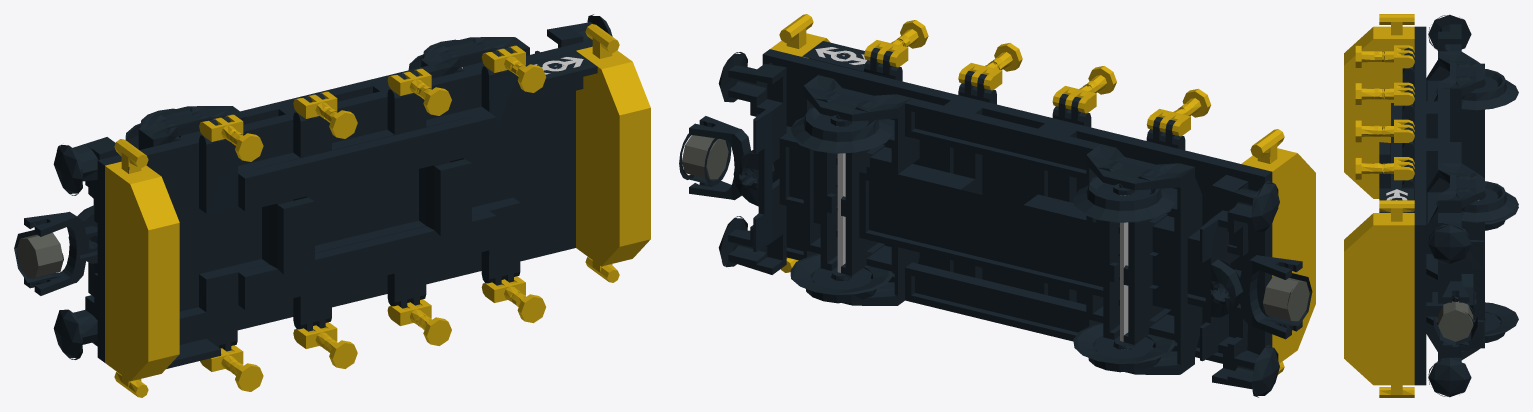
File: wagon.glb
The picture shows the model from 3 angles, left to right: view 1: azimuth 30°, elevation 25°; view 2: azimuth 150°, elevation 25°; view 3: azimuth 270°, elevation 25°; orthographic projection. The views are drawn at different scales.
Bounding box in the file's own units: 154 × 62.4 × 47.6.
